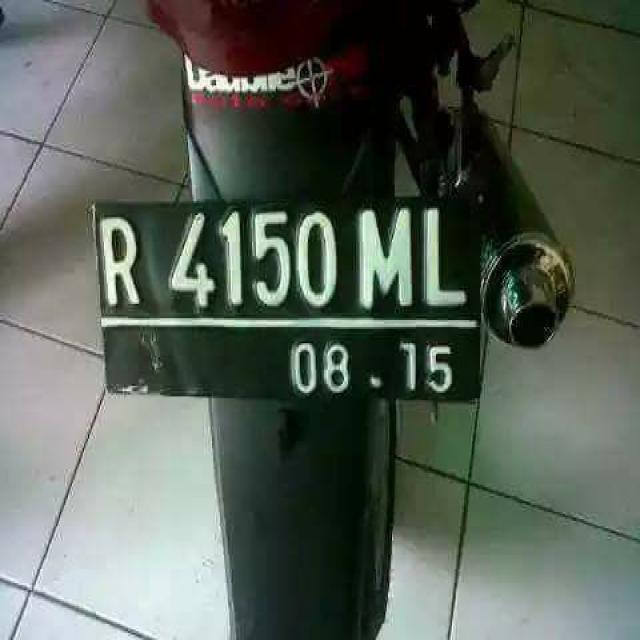plate: (92, 202, 480, 404)
